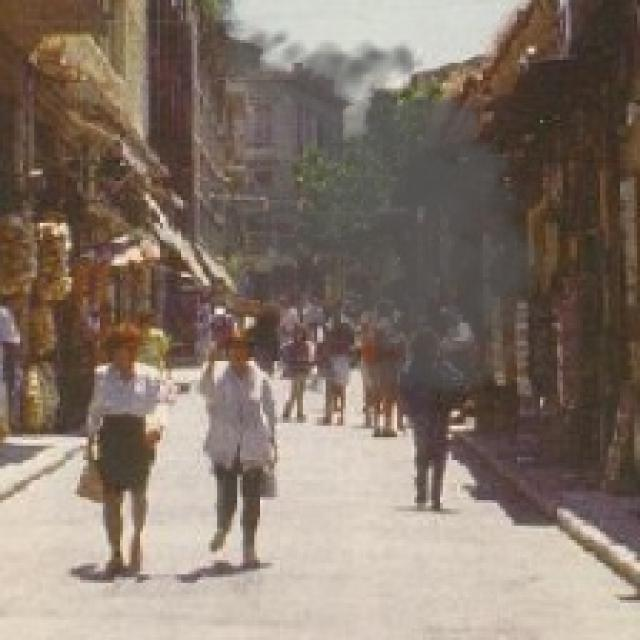Smoke: (180, 17, 569, 403)
